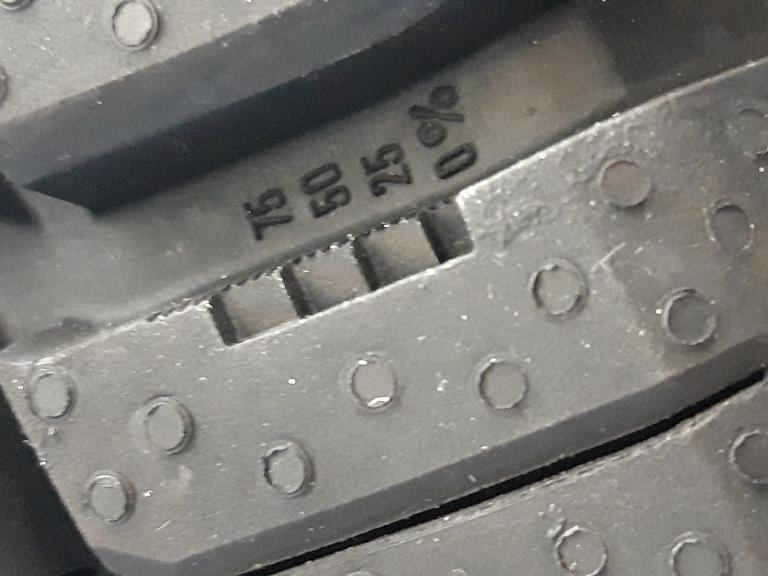temoin:100: (141, 180, 484, 355)
